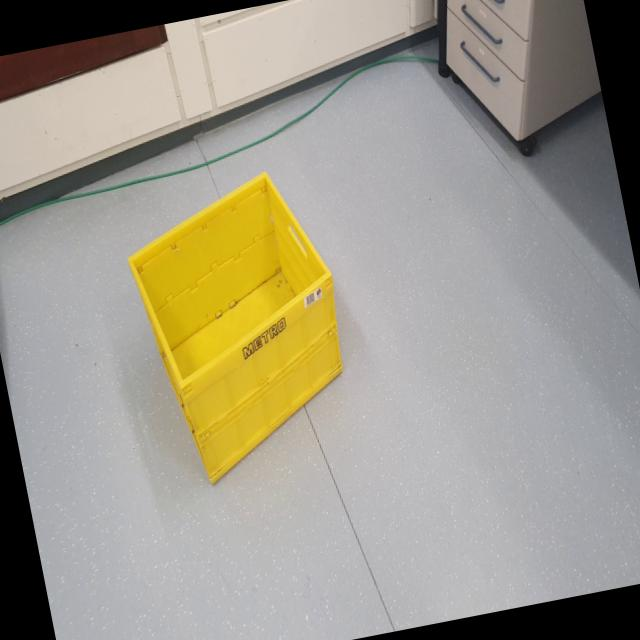box: (106, 156, 377, 526)
